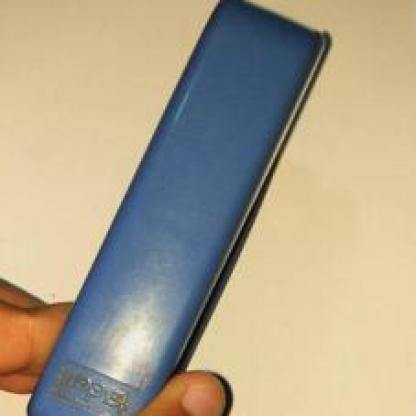stapler: (41, 10, 332, 415)
